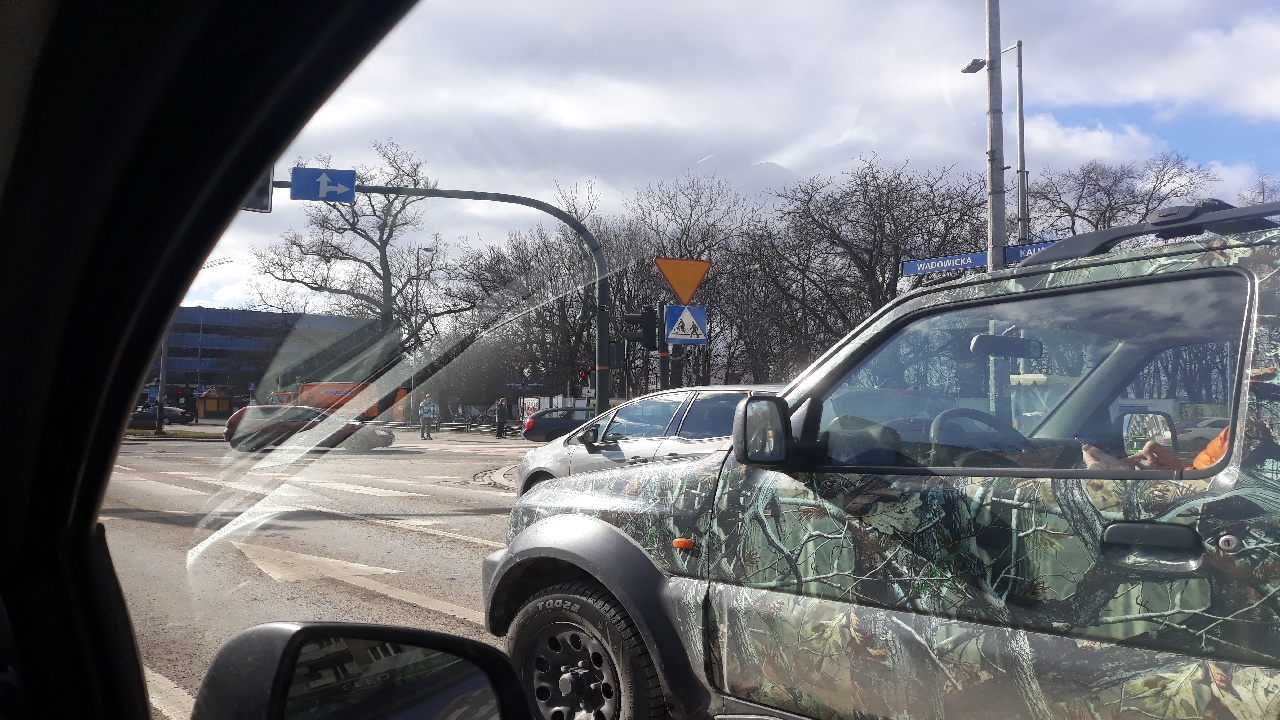A7: (654, 256, 713, 306)
D6b: (665, 305, 707, 344)
